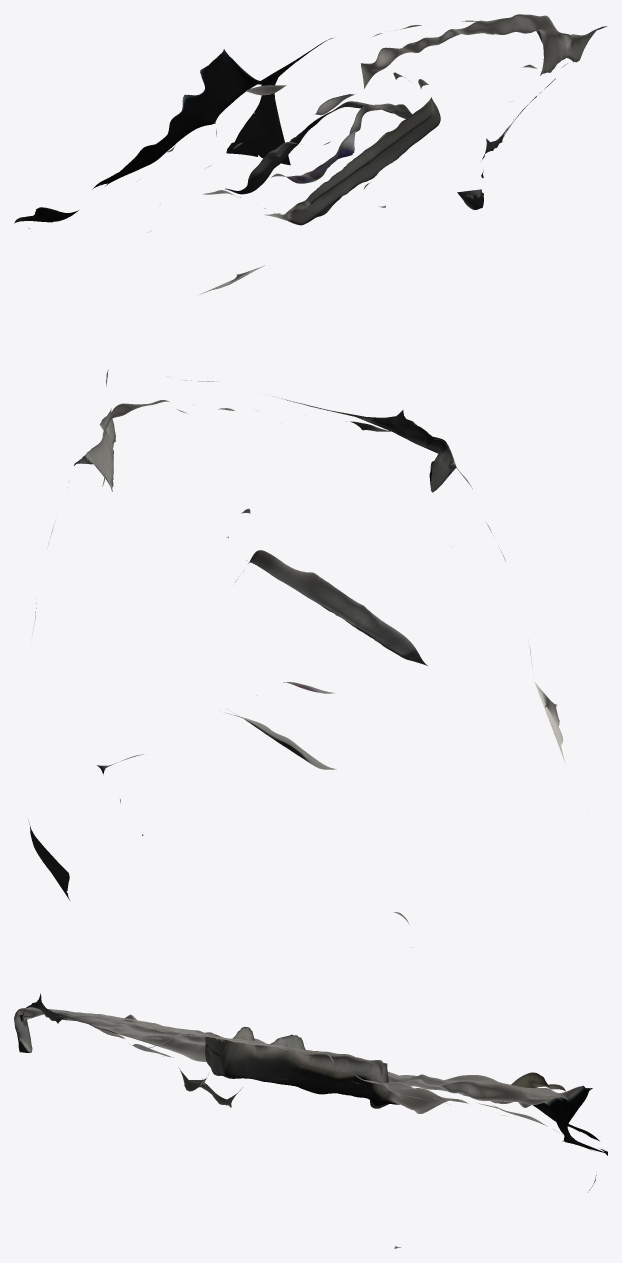
3 renders of one model, top to bottom at view 1: azimuth 30°, elevation 25°; view 2: azimuth 150°, elevation 25°; view 3: azimuth 270°, elevation 25°, orthographic. The views are drawn at different scales.
Size of the model in its own units: 1.01 by 0.5197 by 1.08.
1 material, 1 textured.
